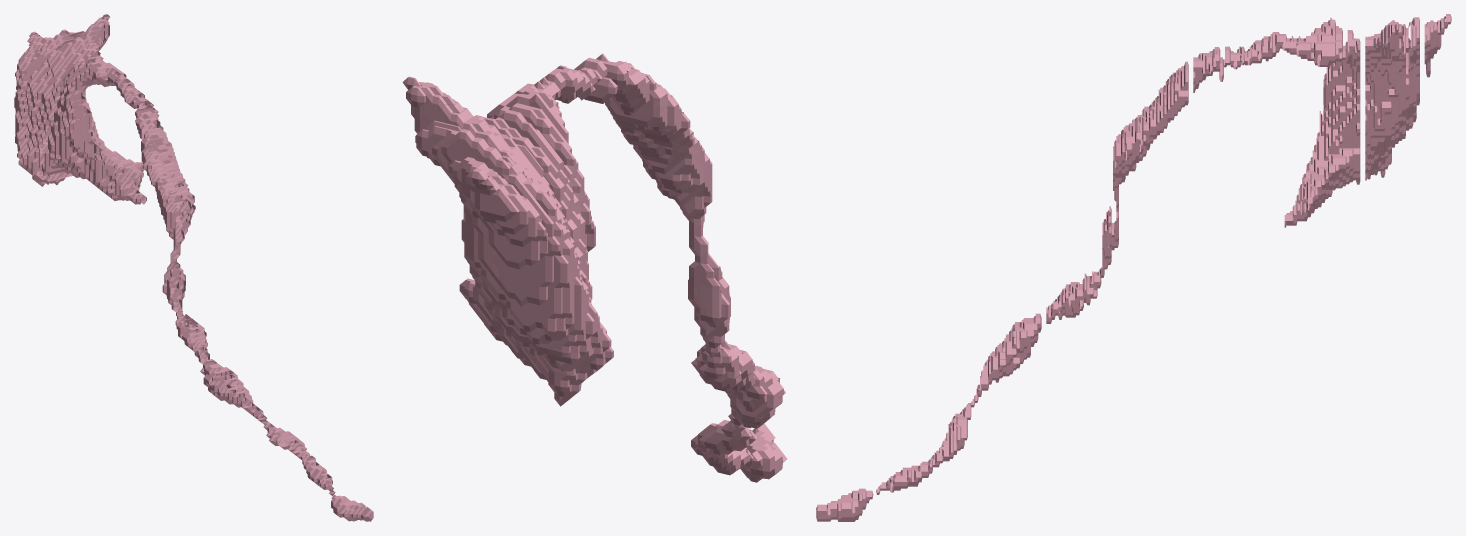
The model's file is SVV_RMGL.gltf.
3 views of the same model, side by side, from view 1: azimuth 30°, elevation 25°; view 2: azimuth 150°, elevation 25°; view 3: azimuth 270°, elevation 25° (orthographic). The views are drawn at different scales.
Visible parts, largest first — view 1: RMGL; view 2: RMGL; view 3: RMGL.
Part boxes in pixels (box(x1,y1,x2,y2)): RMGL: box(14, 14, 373, 521); RMGL: box(402, 53, 787, 482); RMGL: box(816, 14, 1451, 521).
Bounding box in the file's own units: 23553 × 57384 × 69671.
